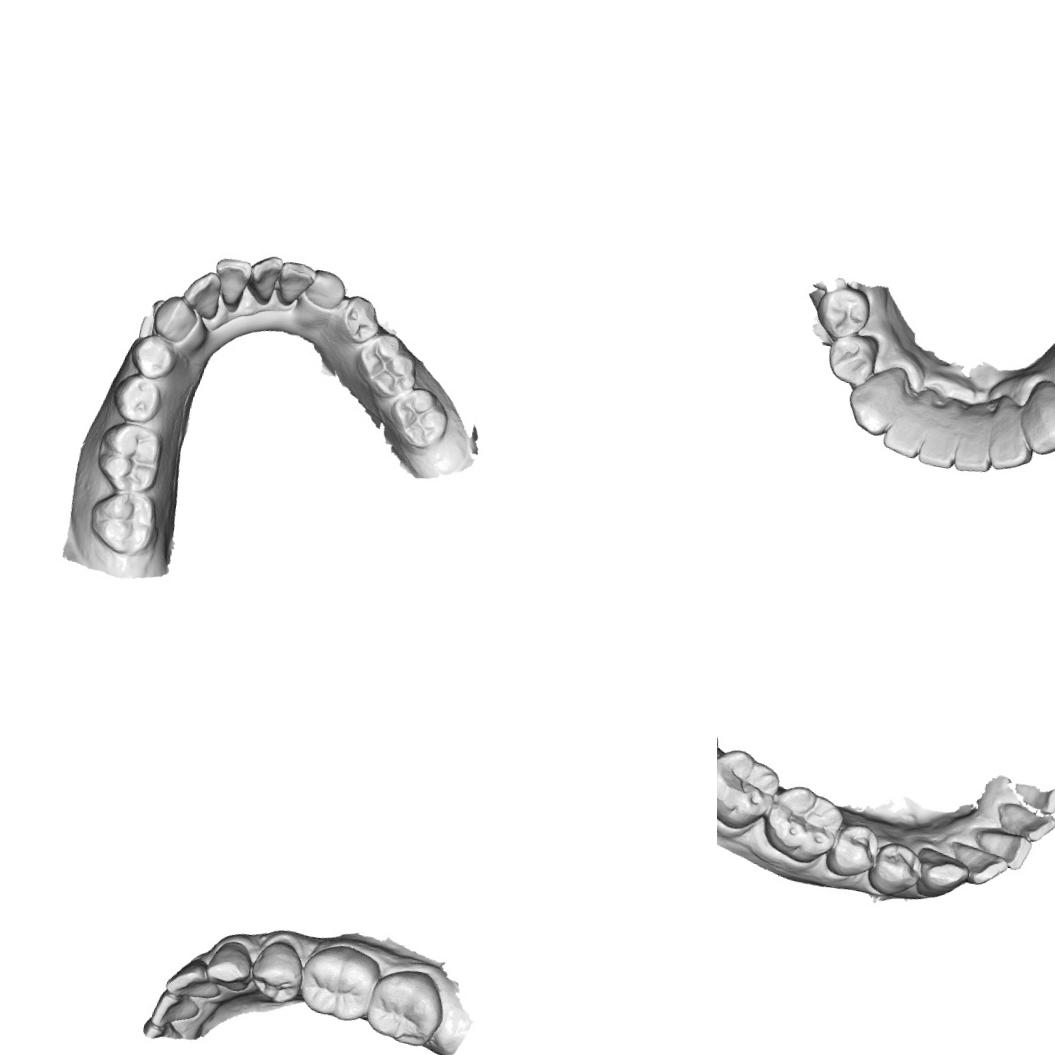canine: (839, 364, 904, 444), (910, 842, 977, 905), (1014, 376, 1055, 462), (200, 935, 256, 994), (148, 291, 202, 345), (301, 266, 349, 312)
incisor: (985, 399, 1040, 475), (942, 834, 1010, 890), (970, 824, 1035, 874), (162, 952, 226, 1002), (989, 798, 1055, 846), (912, 413, 962, 472), (951, 415, 997, 478), (878, 402, 927, 460), (178, 265, 224, 321), (208, 254, 254, 308), (147, 989, 202, 1034), (272, 258, 318, 310), (243, 250, 285, 303)
molar: (360, 962, 450, 1054), (760, 777, 847, 871), (294, 937, 385, 1026), (717, 742, 788, 837), (90, 417, 167, 497), (84, 484, 162, 560), (350, 327, 424, 404), (382, 381, 453, 454)
premolar: (246, 936, 307, 1006), (864, 836, 928, 902), (822, 817, 884, 884), (812, 281, 875, 343), (821, 330, 881, 388), (108, 368, 166, 426), (328, 290, 384, 348), (126, 330, 180, 384)
